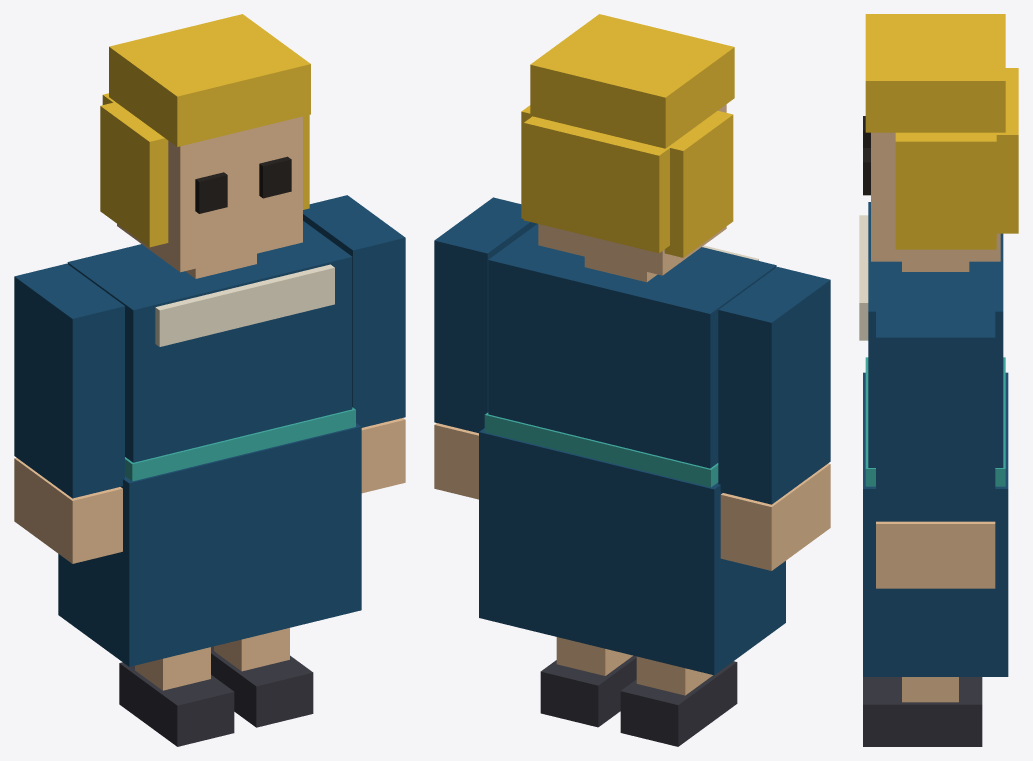
The model's file is people__blonde.glb.
The picture shows the model from 3 angles, left to right: view 1: azimuth 30°, elevation 25°; view 2: azimuth 150°, elevation 25°; view 3: azimuth 270°, elevation 25°; orthographic projection. The views are drawn at different scales.
Visible parts, largest first — view 1: people__blonde, rig_armL, rig_armR, rig_legL, rig_legR; view 2: people__blonde, rig_armL, rig_armR, rig_legL, rig_legR; view 3: people__blonde, rig_armR, rig_legR.
Part boxes in pixels (box(x1,y1,x2,y2)): people__blonde: box(58, 14, 361, 666); rig_armL: box(14, 263, 124, 563); rig_armR: box(303, 195, 405, 493); rig_legL: box(119, 647, 234, 746); rig_legR: box(211, 628, 313, 727); people__blonde: box(479, 14, 785, 675); rig_armL: box(718, 267, 830, 570); rig_armR: box(434, 197, 536, 499); rig_legL: box(620, 656, 737, 746); rig_legR: box(540, 637, 636, 727); people__blonde: box(859, 14, 1018, 676); rig_armR: box(876, 311, 995, 588); rig_legR: box(863, 677, 982, 746).
Size of the model in its own units: 1.52 by 2.83 by 0.615.
